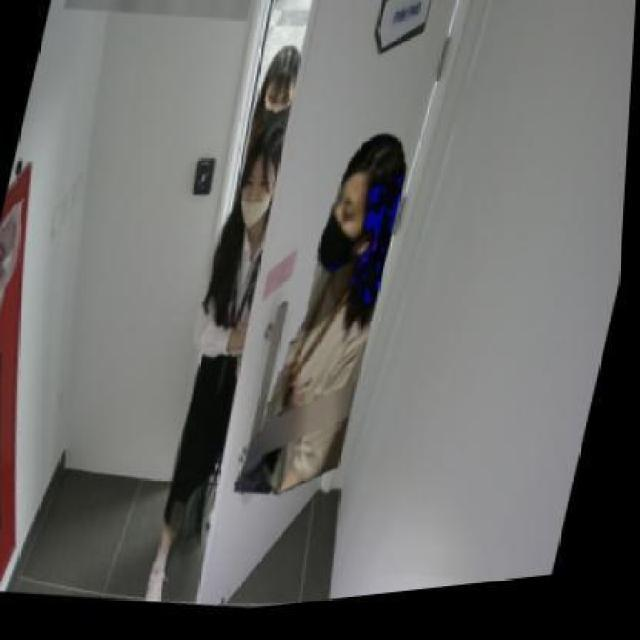hairnet: (237, 150, 270, 228)
